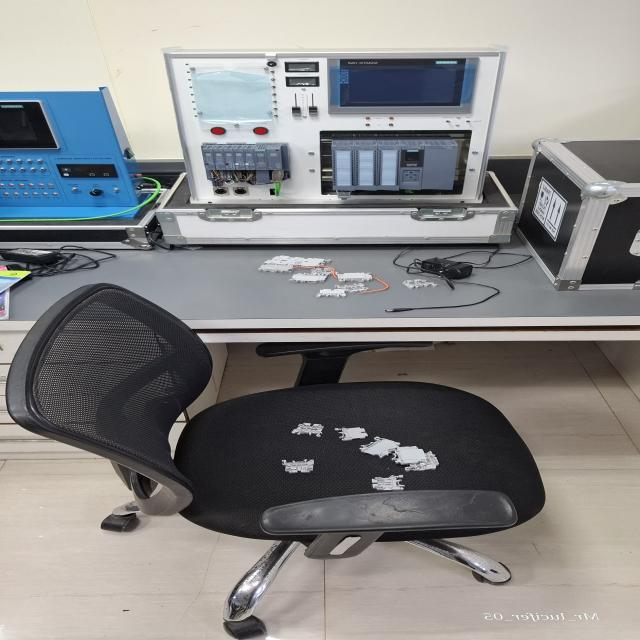Inverted: (334, 426, 369, 442), (315, 288, 351, 300)
Pass: (290, 421, 326, 438), (332, 281, 371, 293), (402, 278, 438, 290), (308, 268, 341, 278)
Reject: (368, 474, 411, 492), (280, 459, 320, 474)
